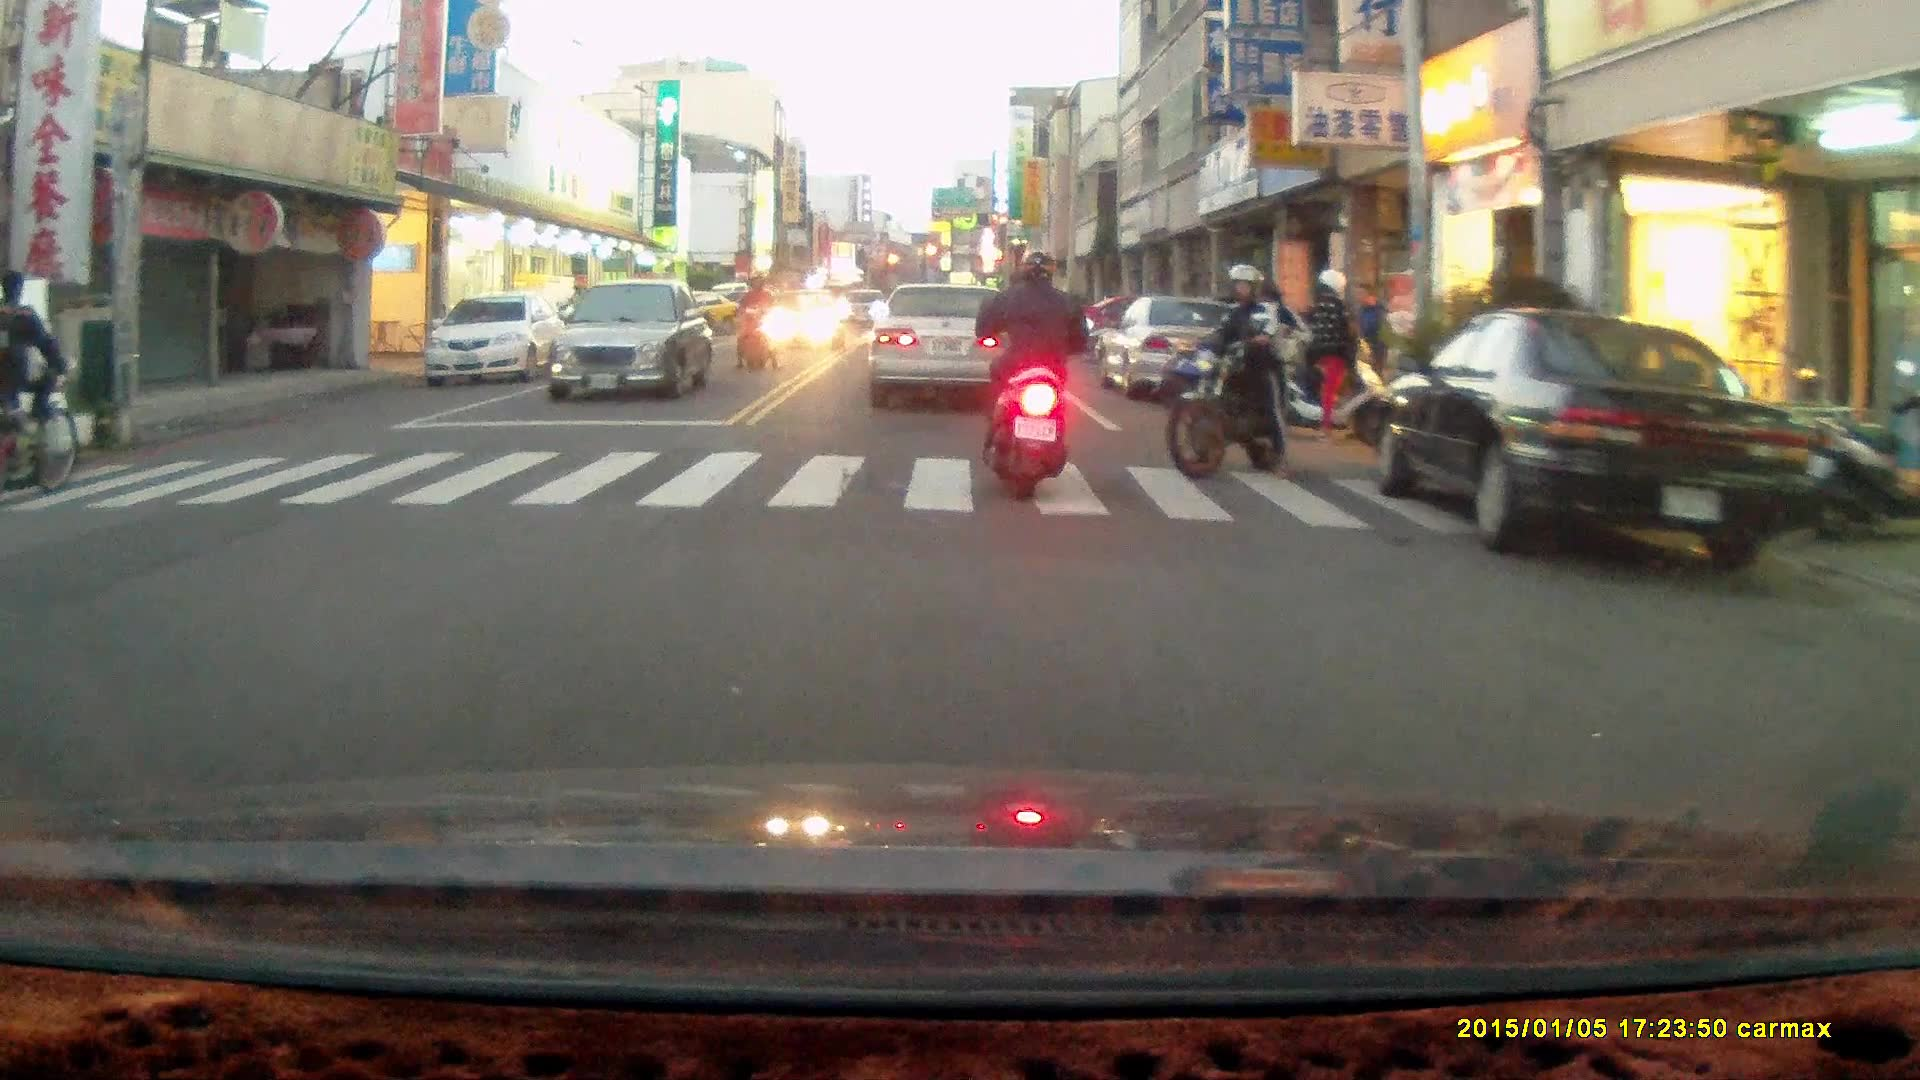pedestrian: (1307, 265, 1355, 436), (1350, 279, 1394, 408)
rider: (1162, 258, 1323, 475), (978, 243, 1097, 497), (0, 267, 77, 495), (728, 273, 777, 372)
vehicle: (1380, 308, 1816, 572), (546, 278, 718, 405), (864, 283, 1019, 407), (1092, 293, 1265, 398), (1, 274, 78, 466), (421, 290, 567, 388), (762, 288, 848, 359)
